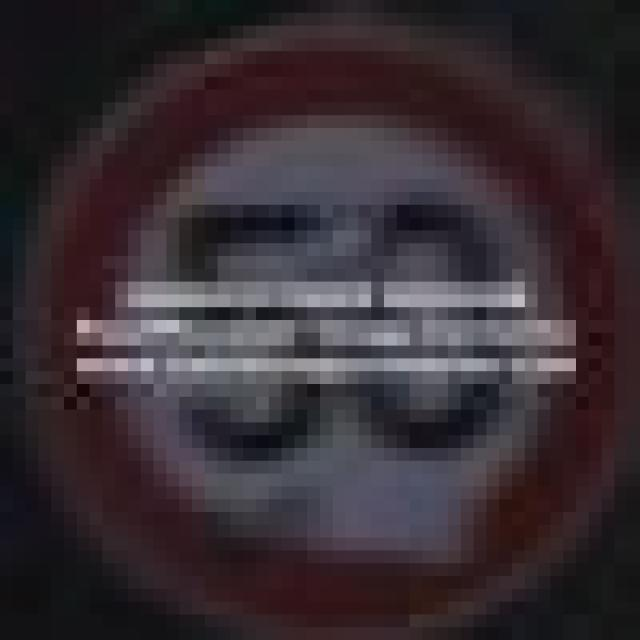speed_limit_30: (38, 26, 589, 588)
